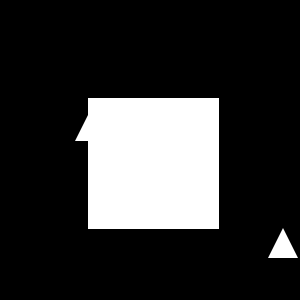circle: (88, 98, 219, 229)
triangle: (75, 102, 114, 141), (268, 228, 298, 258)
